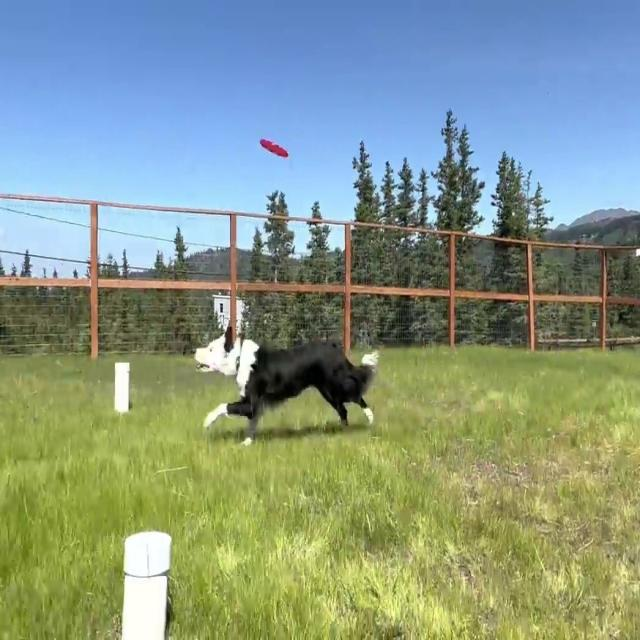Dog: (191, 320, 379, 446)
